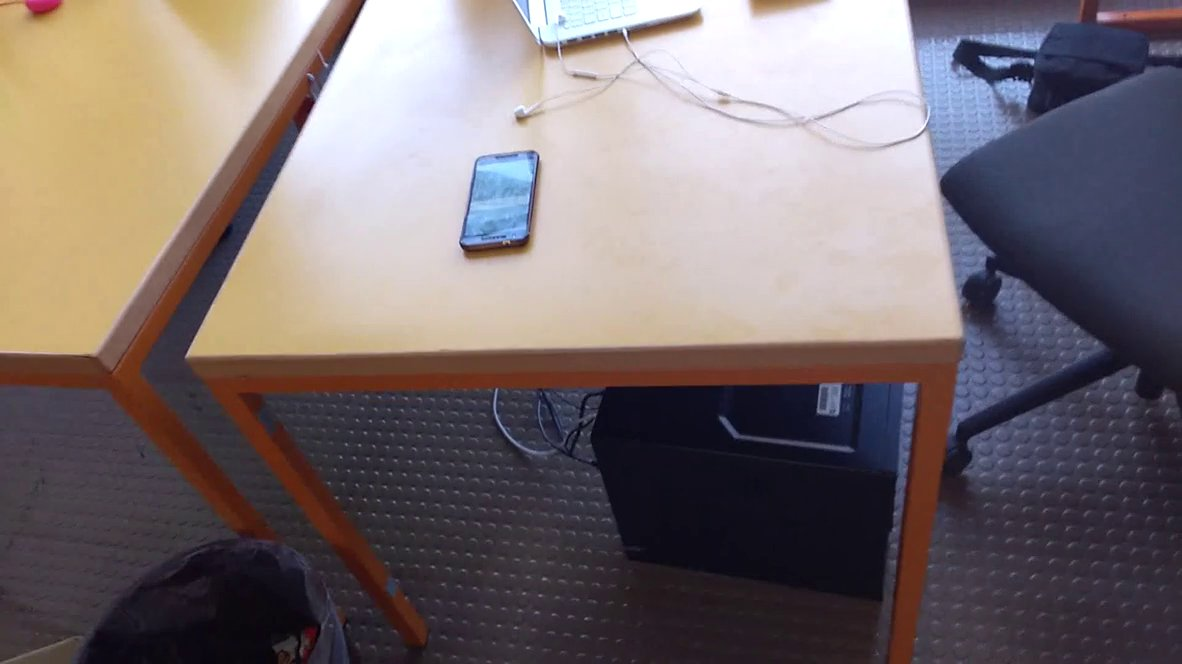phone: (456, 144, 550, 259)
